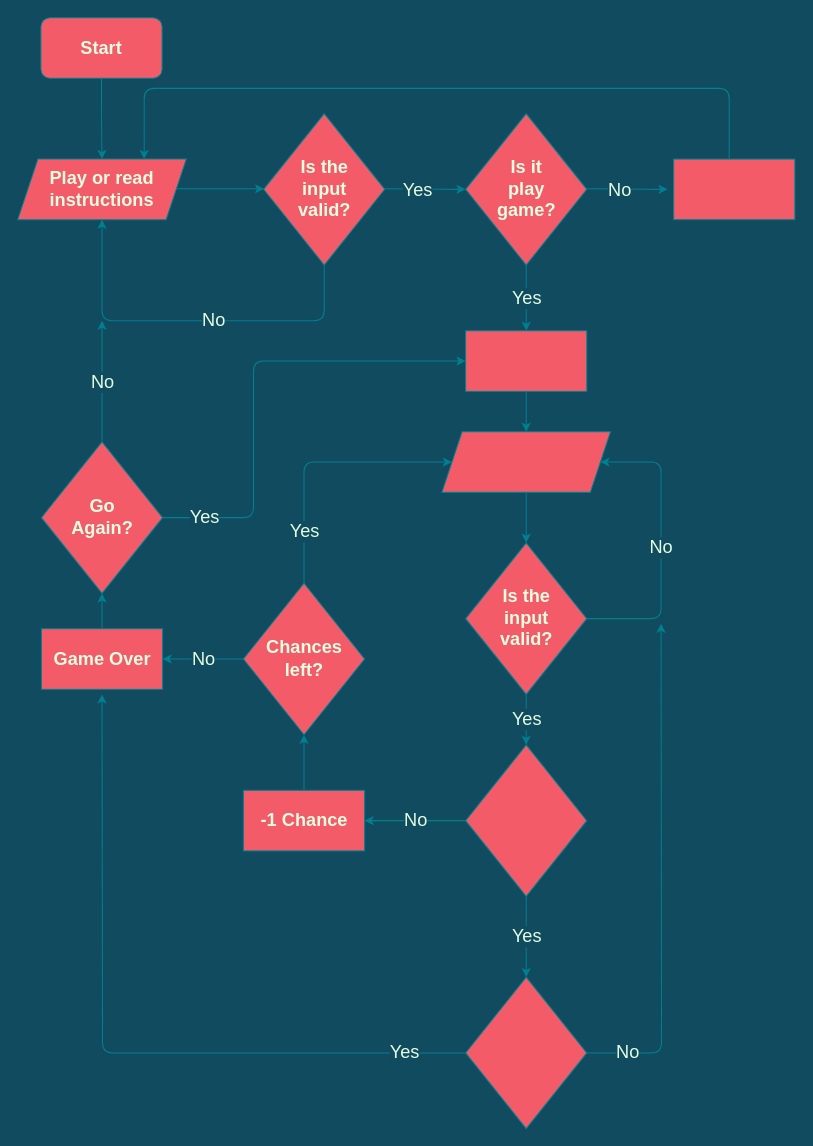
This 813x1146 diagram has some shape labels left out. The shapes that lost their labels are listed below. From the top down, each one's centre as x and y in pixels, then its label:
At point (734, 189): "Display instructions".
At point (526, 360): "New game".
At point (526, 461): "Input Letter".
At point (526, 820): "Is the letter correct?".
At point (526, 1052): "Word complete?".
